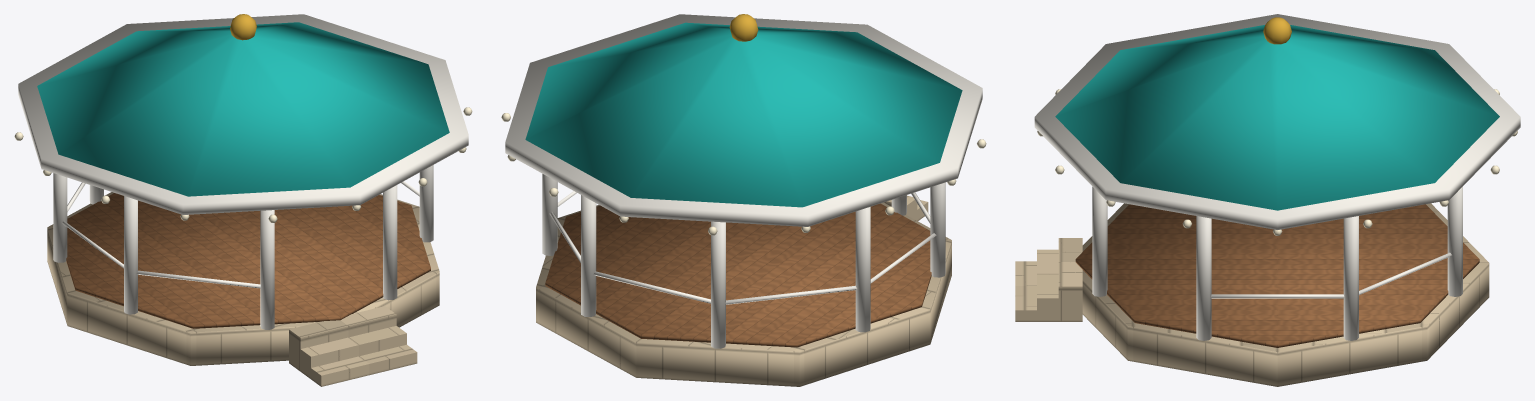
File: bandstand.gltf
The picture shows the model from 3 angles, left to right: view 1: azimuth 30°, elevation 25°; view 2: azimuth 150°, elevation 25°; view 3: azimuth 270°, elevation 25°; orthographic projection. The views are drawn at different scales.
Parts seen in each view (by area): view 1: bandstand_mesh; view 2: bandstand_mesh; view 3: bandstand_mesh.
Part boxes in pixels (x1,y1,x2,y2): bandstand_mesh: (14, 14, 472, 386); bandstand_mesh: (501, 14, 986, 386); bandstand_mesh: (1015, 14, 1520, 386).
Size of what is drawn, in the model's own units: 10.1 by 6.4 by 10.5.
Materials: 6 (2 with a texture image).
